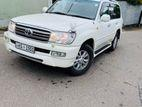car: (4, 0, 123, 74)
